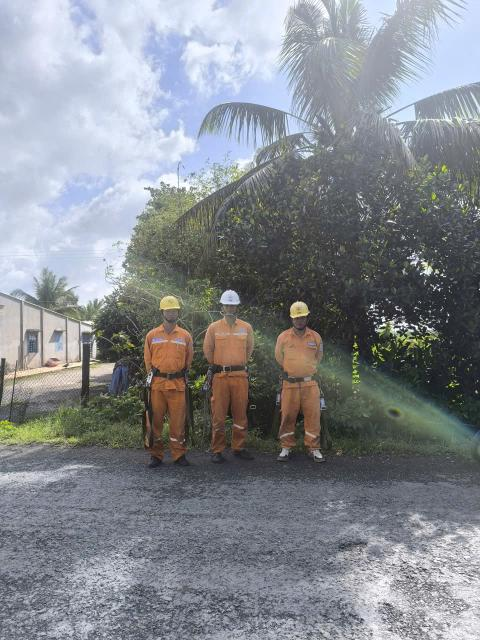harness: (208, 356, 253, 376), (145, 364, 197, 380), (281, 370, 318, 386)
helmet: (158, 294, 182, 315), (216, 289, 248, 304), (289, 297, 311, 318)
shoes: (229, 439, 256, 463), (301, 445, 328, 465), (170, 452, 196, 472), (141, 452, 163, 472), (273, 446, 297, 463), (205, 451, 233, 465)
